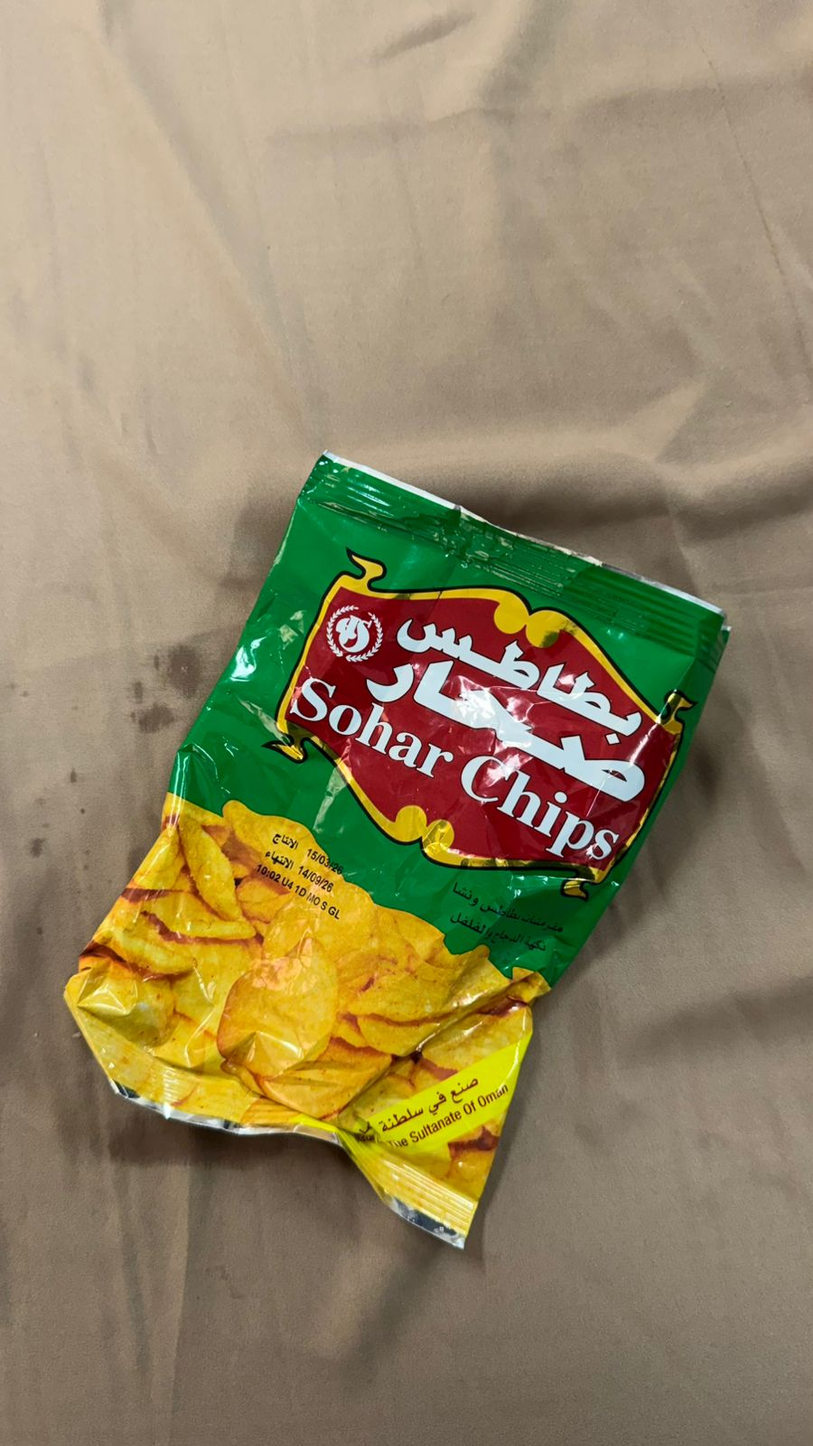plastic: (81, 287, 732, 1444)
